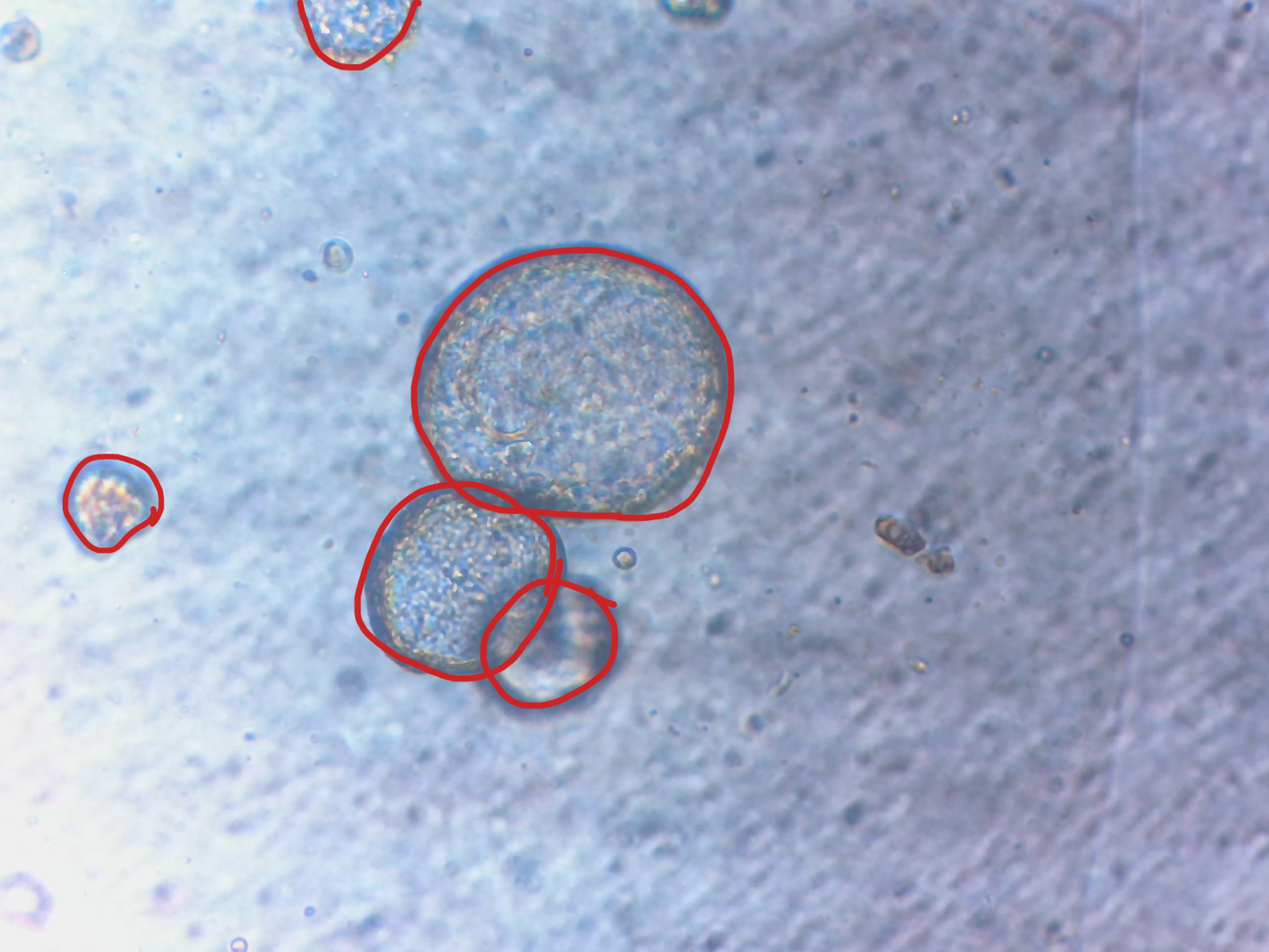organoid: (660, 405, 844, 572), (840, 326, 973, 435), (694, 788, 780, 867), (1084, 314, 1150, 407), (1089, 220, 1136, 317), (707, 217, 767, 274), (1053, 459, 1107, 505), (787, 213, 832, 254), (749, 369, 796, 406)
